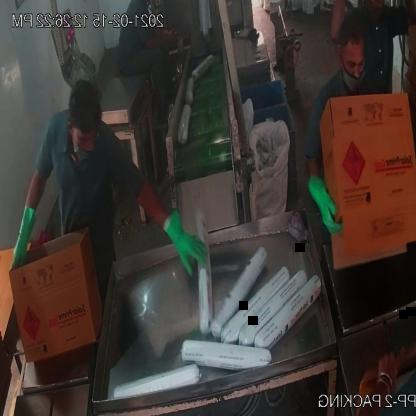glove: (167, 205, 213, 278), (308, 168, 344, 241), (8, 197, 36, 276)
no_glove: (363, 337, 407, 416), (140, 20, 184, 60)
